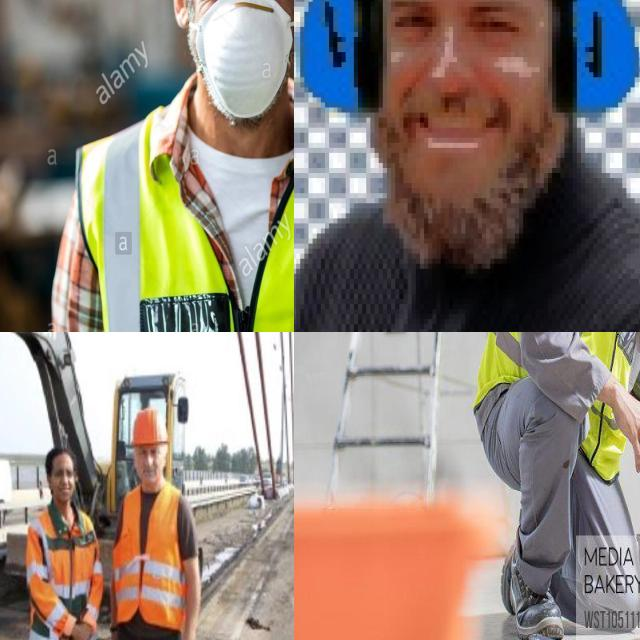Ear-protection: (298, 0, 640, 130)
face_mask: (174, 0, 294, 135)
face_nomask: (132, 444, 166, 486), (52, 466, 77, 503)
hand_noglove: (613, 368, 640, 488), (67, 612, 94, 640), (176, 627, 198, 640)
head_helmet: (125, 408, 174, 448)
head_nohelmet: (41, 440, 77, 471)
person: (41, 0, 294, 332), (489, 332, 640, 640), (114, 403, 191, 640), (26, 447, 110, 640)
shoes: (503, 543, 566, 640)
vest: (67, 114, 294, 332), (519, 332, 640, 471), (115, 487, 197, 640), (29, 504, 105, 640)
